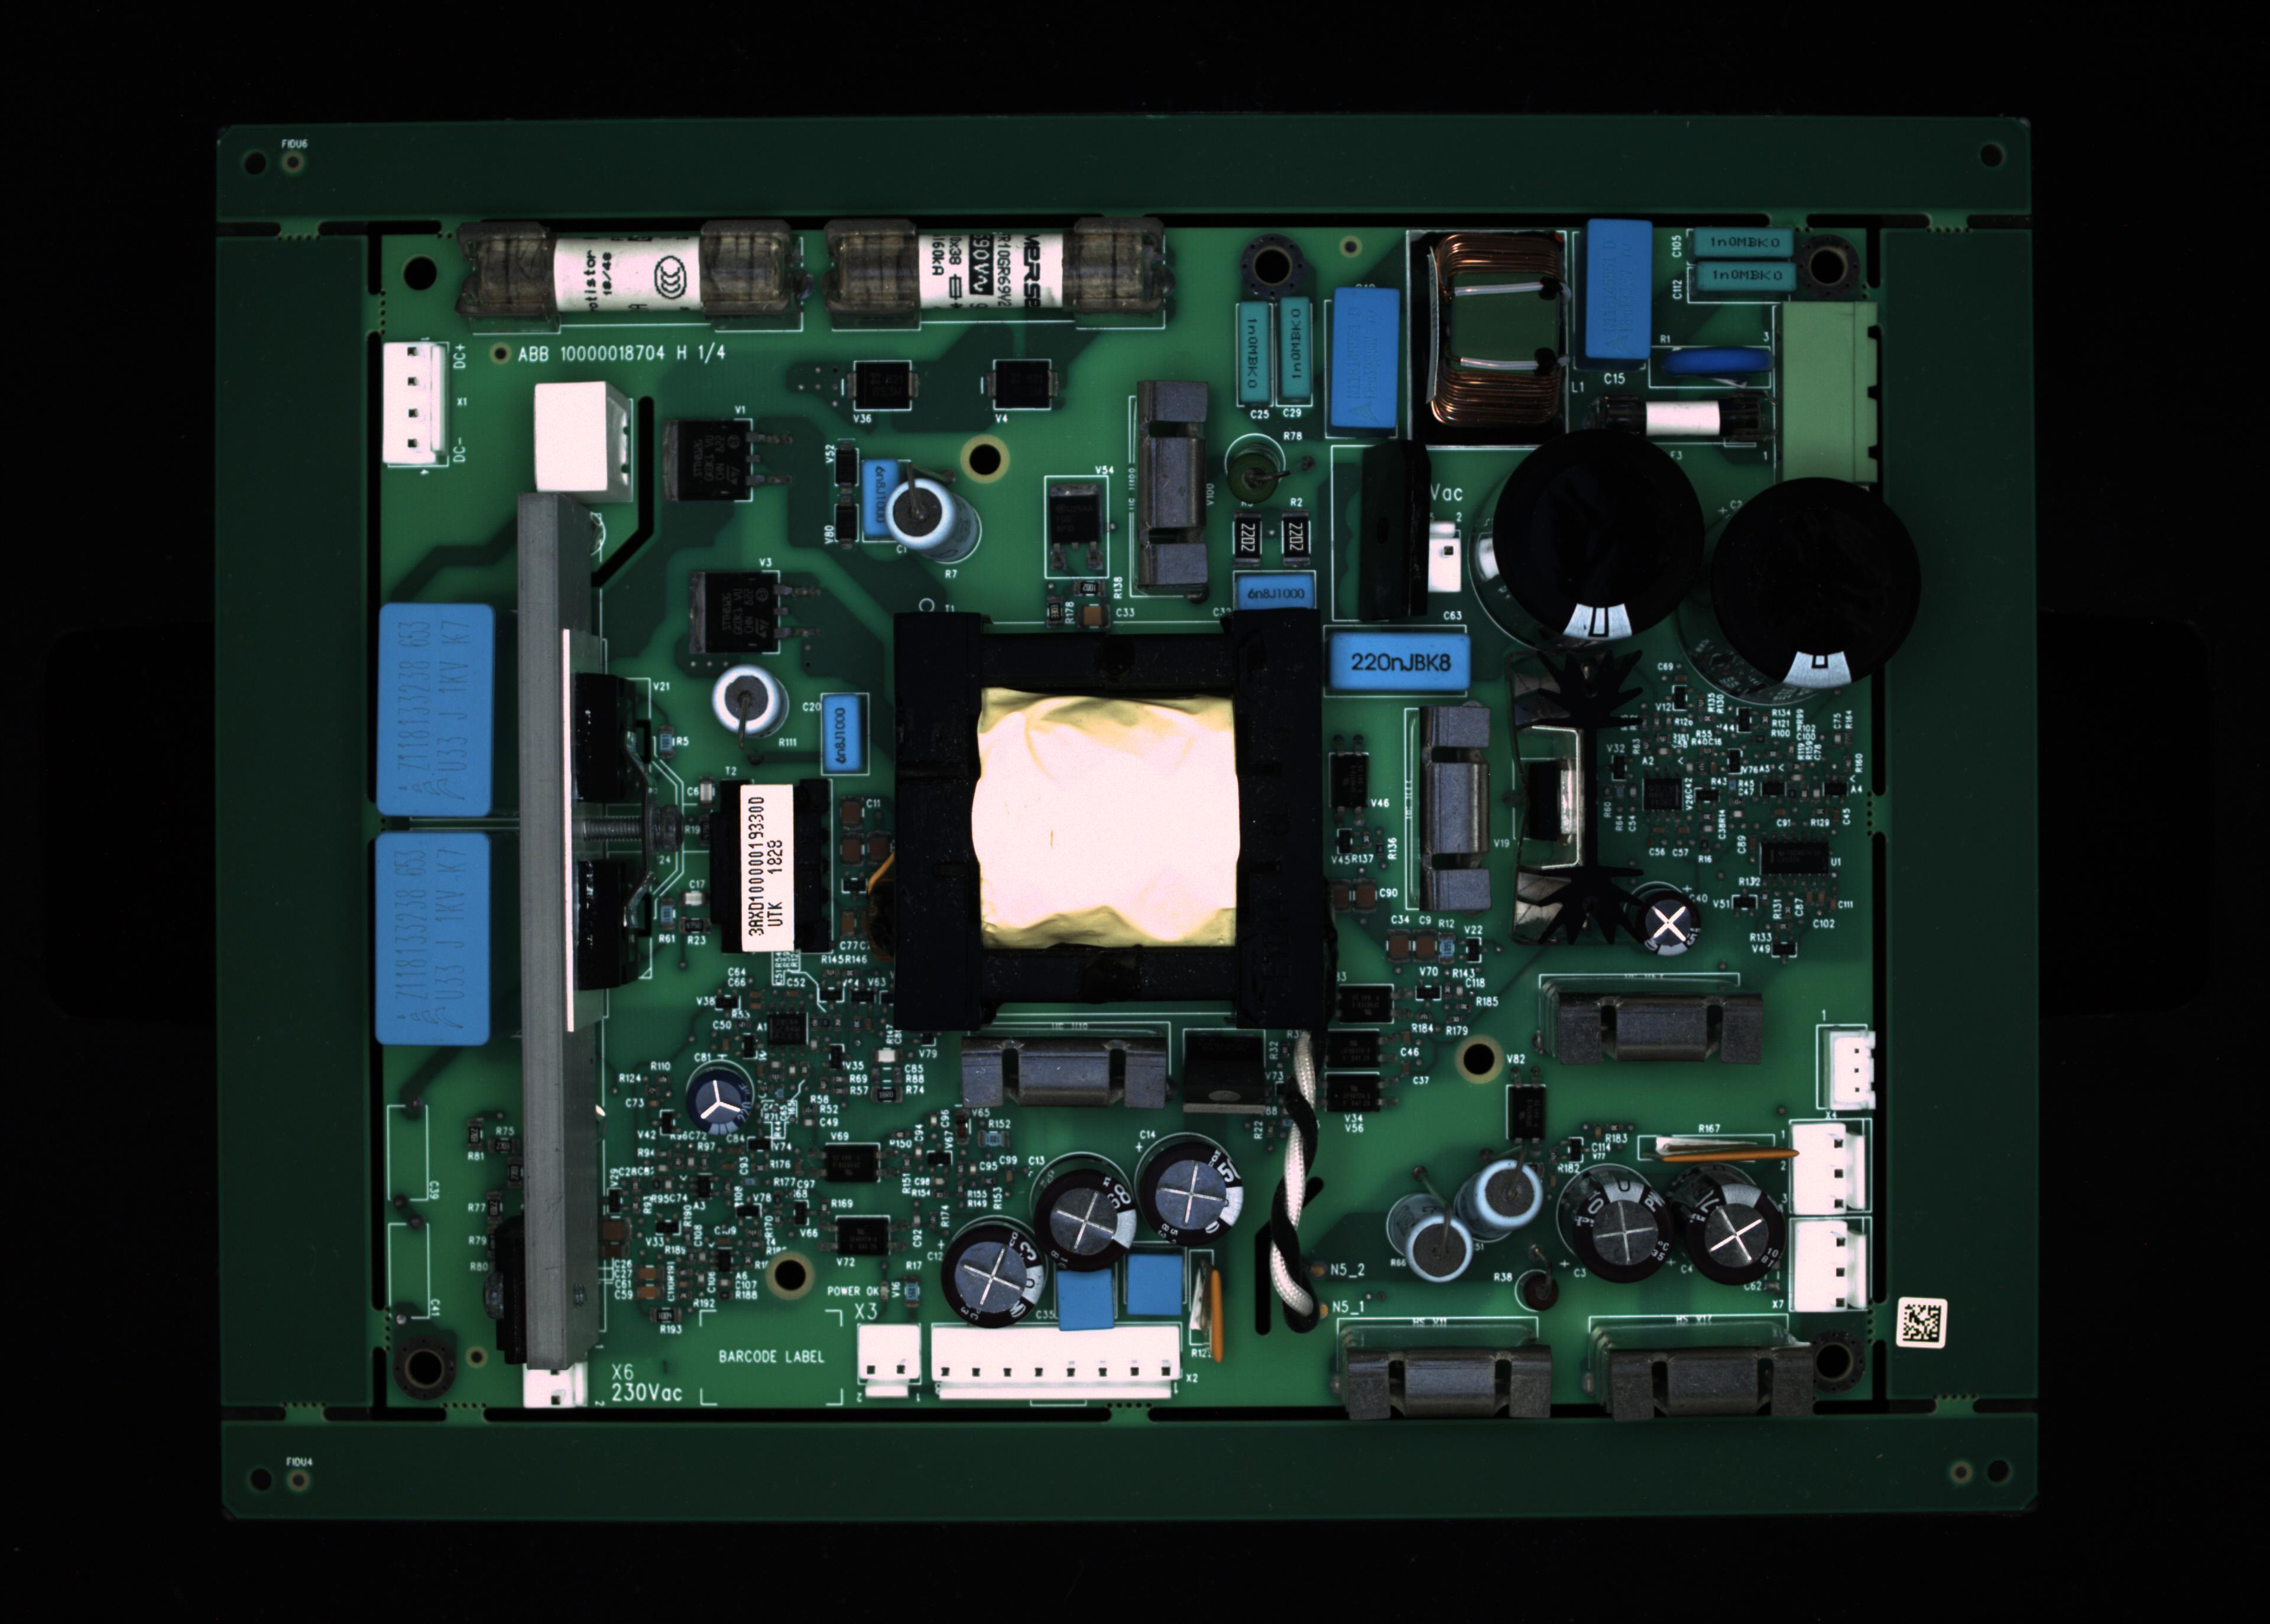10_p: (1648, 346, 1772, 394)
11_q: (1781, 297, 1887, 480)
12_r: (1591, 387, 1776, 455)
13_s: (380, 337, 448, 466)
14_t: (535, 380, 629, 494)
15_e: (855, 459, 907, 547)
16_k: (891, 464, 985, 569)
17_u: (1131, 385, 1206, 592)
18_v: (1234, 569, 1317, 615)
19_w: (1326, 633, 1466, 692)
1_a: (455, 216, 807, 336)
20_f: (1393, 517, 1470, 599)
21_g: (1475, 429, 1709, 670)
22_g: (1677, 482, 1929, 703)
23_h: (376, 603, 494, 812)
24_h: (371, 833, 489, 1040)
25_f: (515, 1360, 591, 1411)
26_f: (858, 1323, 927, 1399)
27_x: (925, 1323, 1183, 1399)
28_i: (1129, 1120, 1241, 1239)
29_i: (1027, 1153, 1134, 1274)
2_a: (819, 216, 1175, 330)
30_i: (941, 1216, 1055, 1339)
31_j: (1050, 1267, 1120, 1339)
32_j: (1118, 1246, 1194, 1327)
33_e: (818, 694, 860, 772)
34_k: (1380, 1185, 1472, 1285)
35_k: (1458, 1160, 1544, 1253)
36_i: (1556, 1164, 1672, 1295)
37_i: (1663, 1160, 1786, 1290)
38_l: (1333, 1348, 1560, 1424)
39_l: (1582, 1343, 1823, 1418)
3_b: (1236, 295, 1270, 399)
40_l: (1539, 977, 1771, 1069)
41_y: (1407, 678, 1505, 919)
42_z: (1829, 1028, 1878, 1109)
43_m: (1792, 1123, 1869, 1216)
44_m: (1788, 1225, 1876, 1311)
45_i: (679, 1065, 756, 1142)
46_n: (1338, 982, 1396, 1028)
47_n: (825, 1144, 884, 1190)
48_n: (830, 1211, 893, 1258)
49_aa: (761, 1011, 812, 1048)
4_b: (1280, 299, 1317, 401)
50_n: (1321, 1030, 1391, 1070)
51_n: (1322, 1072, 1384, 1118)
52_ab: (1329, 752, 1371, 812)
53_ac: (1656, 1130, 1790, 1165)
54_ad: (1194, 1253, 1222, 1364)
55_l: (957, 1021, 1175, 1118)
56_ae: (1176, 1025, 1282, 1132)
57_af: (1509, 647, 1635, 951)
58_i: (1630, 884, 1706, 958)
59_o: (993, 357, 1057, 411)
5_c: (1333, 286, 1400, 427)
60_o: (849, 362, 911, 410)
6_ag: (1405, 232, 1572, 452)
7_c: (1582, 218, 1648, 353)
8_d: (1699, 227, 1792, 260)
9_d: (1695, 262, 1793, 290)
